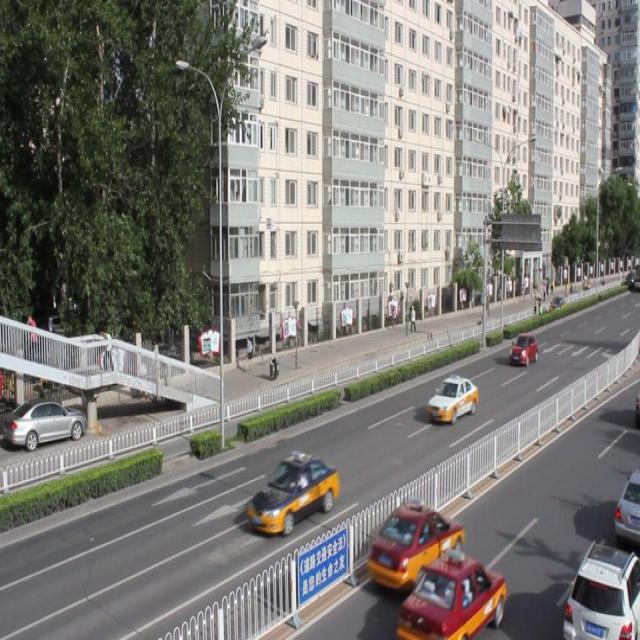car: (396, 548, 504, 640), (365, 497, 462, 590), (561, 539, 640, 640), (246, 452, 336, 532), (425, 374, 477, 425), (612, 464, 640, 538), (507, 332, 537, 364)
